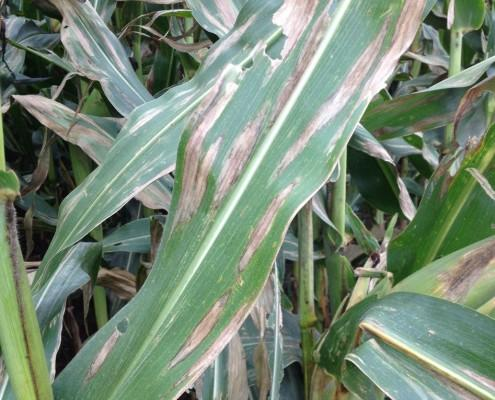Corn leaf blight: (49, 1, 441, 400), (29, 6, 247, 287), (320, 296, 495, 396)
